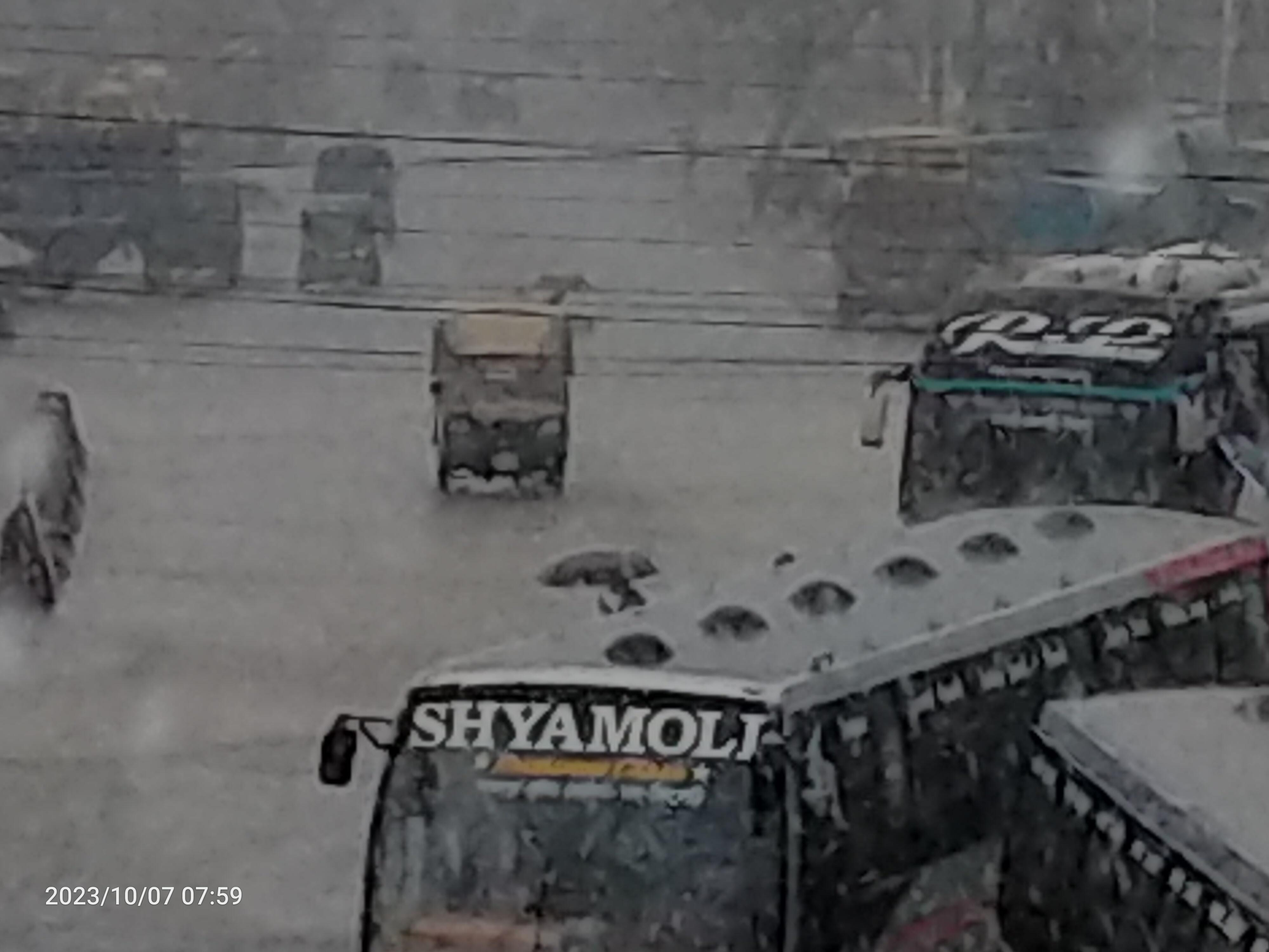Bus: (284, 468, 1269, 952), (840, 226, 1269, 594), (1021, 664, 1269, 952)
